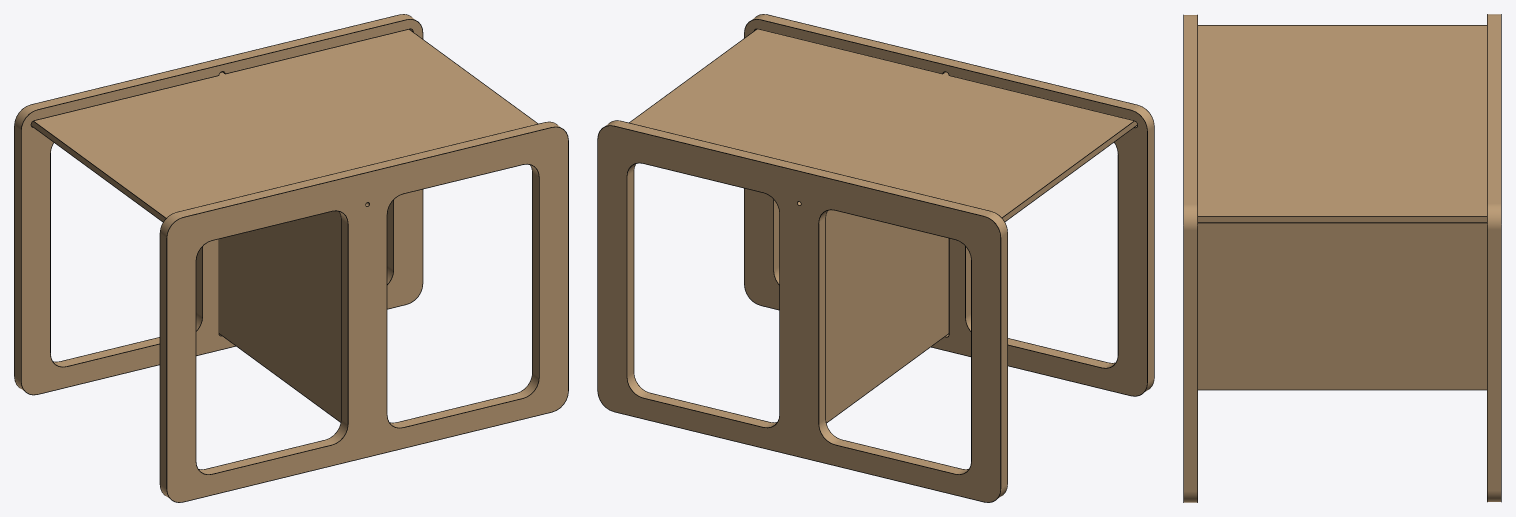
The model's file is modelo.glb.
3 views of the same model, side by side, from view 1: azimuth 30°, elevation 25°; view 2: azimuth 150°, elevation 25°; view 3: azimuth 270°, elevation 25° (orthographic). The views are drawn at different scales.
Visible parts, largest first — view 1: Cuerpo36, Cuerpo34, Cuerpo37, Cuerpo35, Cuerpo36_Bordes, Cuerpo37_Bordes, Cuerpo34_Bordes; view 2: Cuerpo37, Cuerpo34, Cuerpo36, Cuerpo35, Cuerpo37_Bordes, Cuerpo36_Bordes, Cuerpo34_Bordes; view 3: Cuerpo34, Cuerpo35, Cuerpo36, Cuerpo37, Cuerpo34_Bordes, Cuerpo36_Bordes, Cuerpo37_Bordes, Cuerpo35_Bordes.
Part boxes in pixels (x1,y1,x2,y2): Cuerpo36: (160, 122, 567, 502); Cuerpo34: (31, 29, 537, 221); Cuerpo37: (14, 14, 422, 394); Cuerpo35: (219, 211, 340, 421); Cuerpo36_Bordes: (159, 121, 568, 502); Cuerpo37_Bordes: (14, 14, 423, 395); Cuerpo34_Bordes: (31, 29, 537, 221); Cuerpo37: (598, 121, 1007, 502); Cuerpo34: (630, 29, 1137, 221); Cuerpo36: (744, 14, 1153, 395); Cuerpo35: (826, 210, 948, 422); Cuerpo37_Bordes: (597, 120, 1007, 502); Cuerpo36_Bordes: (744, 14, 1154, 396); Cuerpo34_Bordes: (629, 28, 1137, 221); Cuerpo34: (1198, 25, 1486, 222); Cuerpo35: (1198, 223, 1486, 389); Cuerpo36: (1184, 15, 1197, 502); Cuerpo37: (1487, 14, 1500, 501); Cuerpo34_Bordes: (1198, 25, 1486, 223); Cuerpo36_Bordes: (1183, 14, 1197, 502); Cuerpo37_Bordes: (1487, 14, 1501, 502); Cuerpo35_Bordes: (1198, 389, 1486, 390).
Size of the model in its own units: 0.6216 by 0.4222 by 0.4091.
